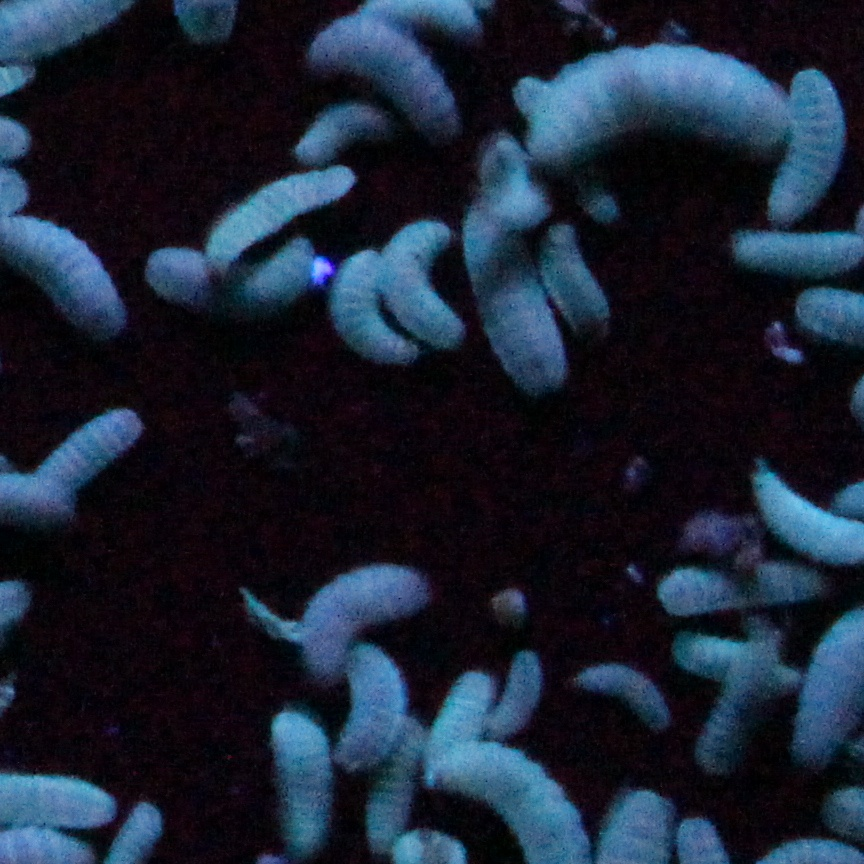larve: (521, 43, 792, 169), (464, 203, 571, 386), (204, 169, 361, 276), (312, 29, 464, 133), (305, 555, 431, 679), (700, 619, 787, 771), (142, 243, 316, 315), (762, 64, 837, 223), (378, 212, 466, 346), (326, 257, 419, 365), (273, 712, 336, 862), (543, 215, 614, 348), (48, 410, 146, 491), (350, 639, 402, 762), (579, 664, 669, 733), (488, 653, 538, 738)
